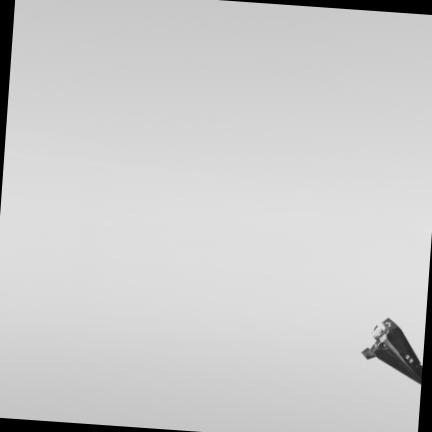Shahed: (361, 318, 422, 384)
